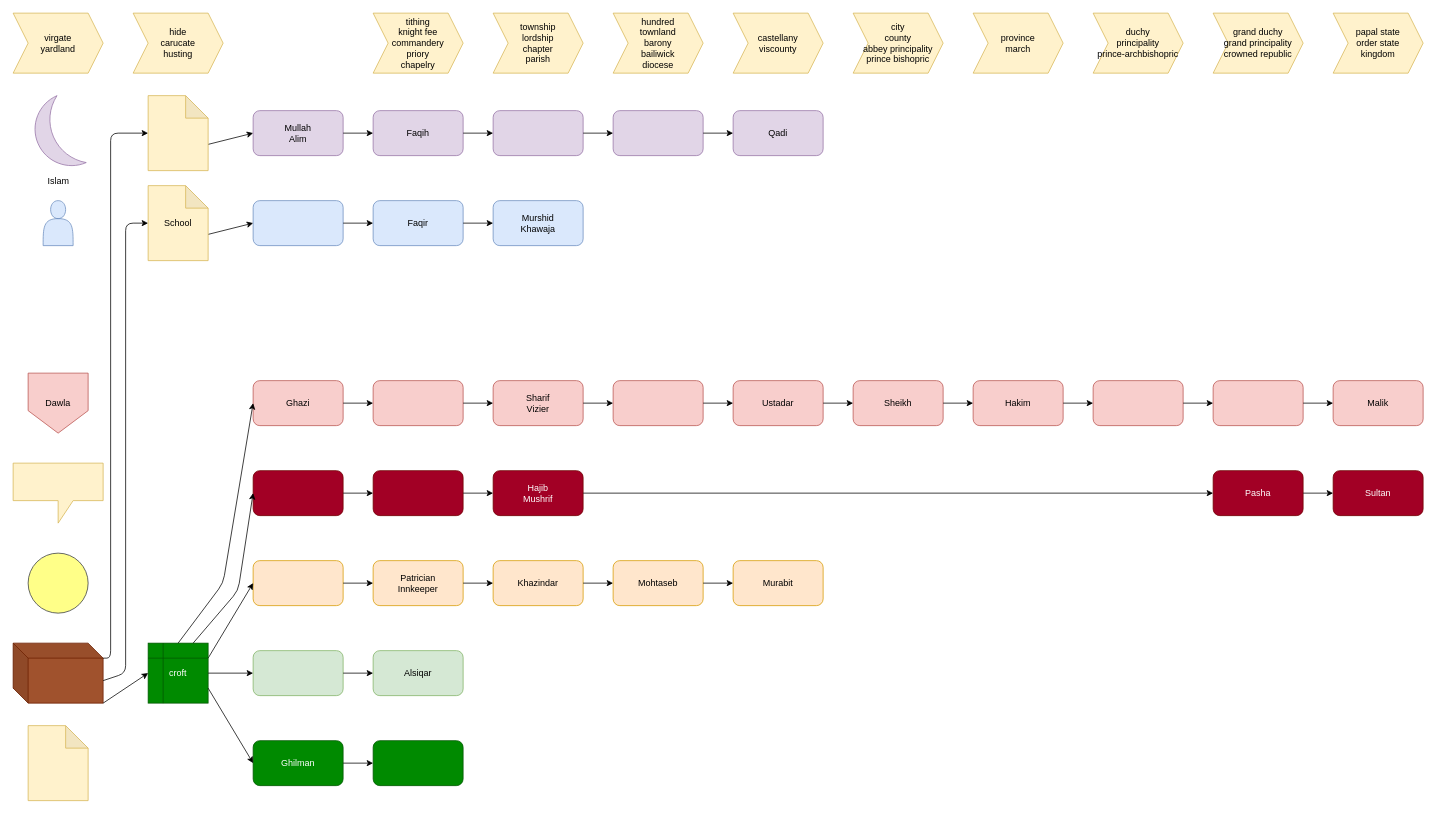
The diagram is 1436 pixels wide and 814 high, and some of its shapes have lost their labels. Here are the shapes that lost their labels. From the top down, the centre of each, then its label:
[177,133]: Parish
[537,133]: Imam
[657,133]: Mufti Mufassir
[57,223]: Sufi
[297,223]: Dervish
[417,403]: Faris
[657,403]: Wali Saghir
[1137,403]: Emir
[1257,403]: Grand Vizier
[57,492]: Diwan
[297,493]: Katib
[417,493]: Sahib Jomdar Chakir
[57,582]: Dinar
[297,583]: Burgher
[57,672]: Arabic Manor
[297,673]: Bedouin
[57,763]: Devshirme
[417,763]: Mamluk
